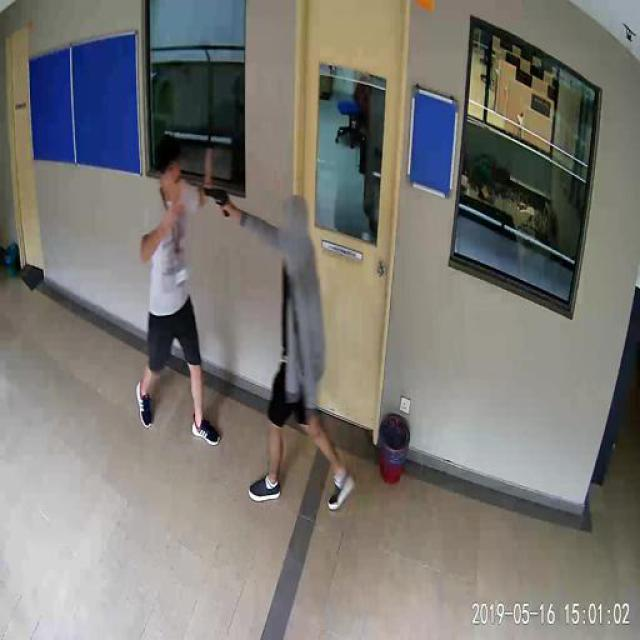Gun: (201, 185, 229, 215)
